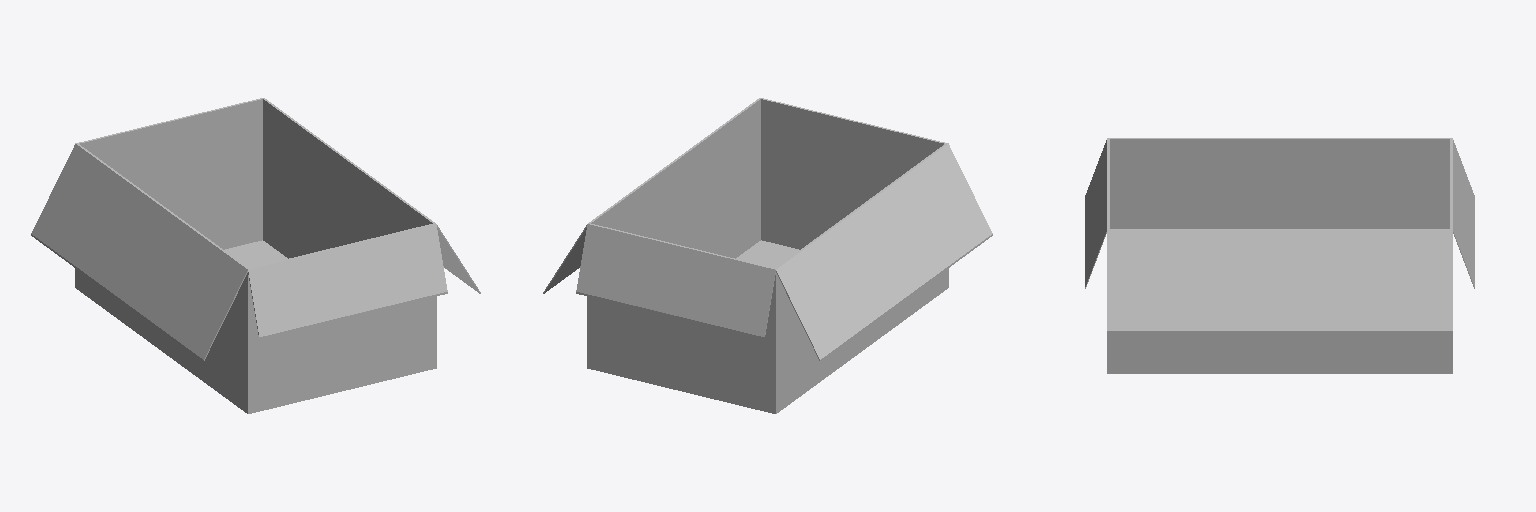
Rendered from cardboardbox.obj.
3 views of the same model, side by side, from view 1: azimuth 30°, elevation 25°; view 2: azimuth 150°, elevation 25°; view 3: azimuth 270°, elevation 25° (orthographic).
Visible parts, largest first — view 1: Cube1; view 2: Cube1; view 3: Cube1.
Boxes of the visible parts, <box> form: Cube1: <box>31,98,480,413</box>; Cube1: <box>543,98,992,413</box>; Cube1: <box>1085,138,1474,373</box>.
Bounding box in the file's own units: 3.01 × 1.5 × 3.67.